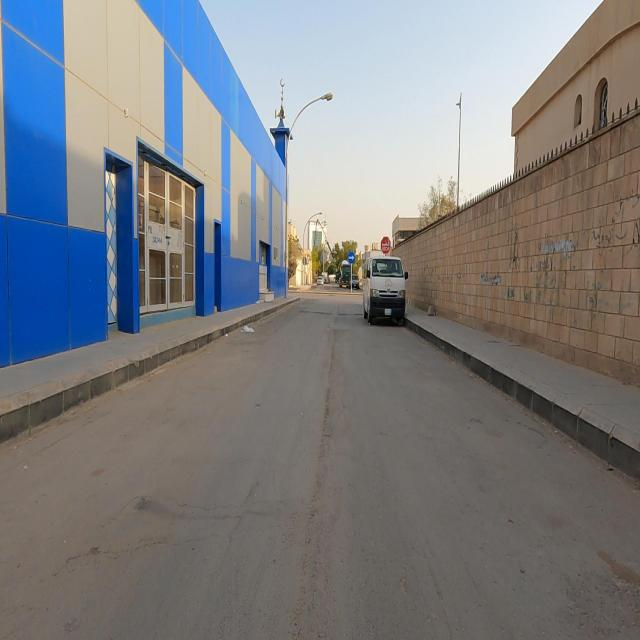Graffiti: (506, 278, 640, 311), (591, 176, 640, 257), (531, 230, 581, 279), (506, 235, 524, 273), (481, 273, 503, 288)
